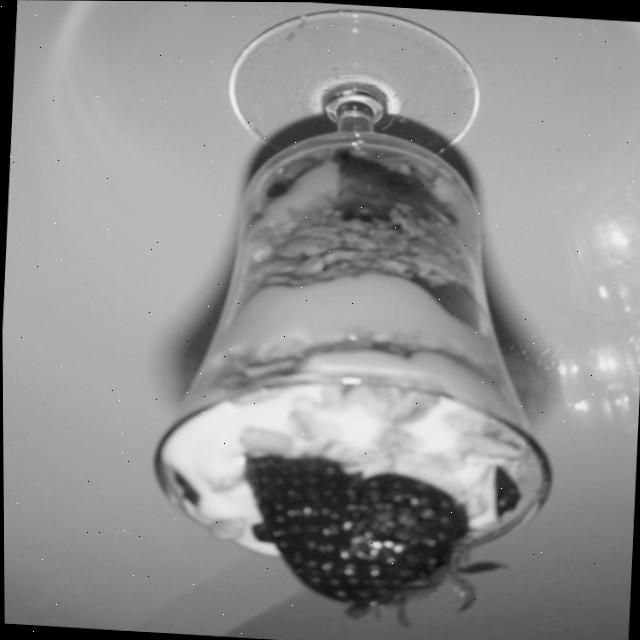蛋糕甜品: (140, 102, 575, 634)
